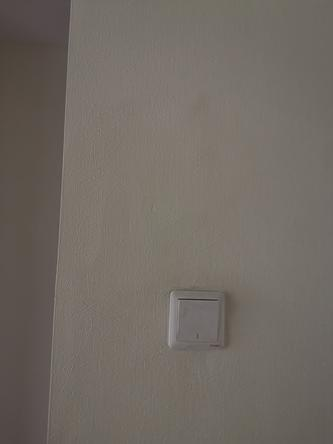switch: (171, 291, 224, 346)
